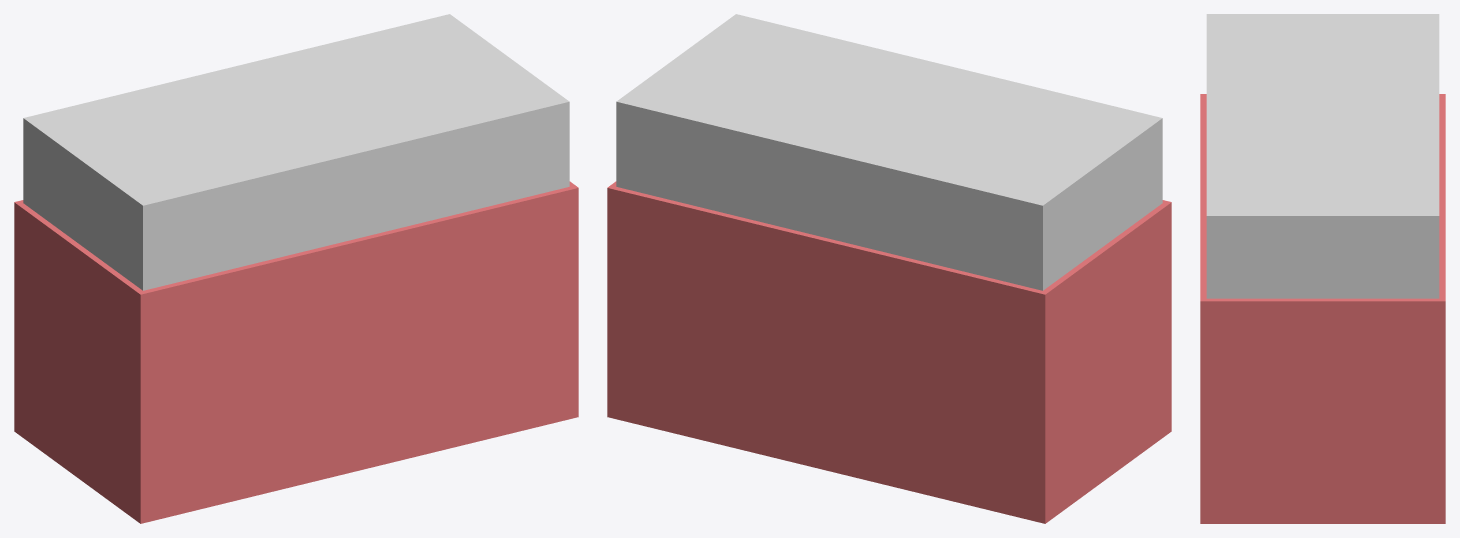
The model's file is display_kaca_panjang.fbx.
The picture shows the model from 3 angles, left to right: view 1: azimuth 30°, elevation 25°; view 2: azimuth 150°, elevation 25°; view 3: azimuth 270°, elevation 25°; orthographic projection. The views are drawn at different scales.
Visible parts, largest first — view 1: display_kaca_panjang; view 2: display_kaca_panjang; view 3: display_kaca_panjang.
Part boxes in pixels (bbox=[...]): display_kaca_panjang: bbox=[14, 14, 578, 523]; display_kaca_panjang: bbox=[607, 14, 1171, 523]; display_kaca_panjang: bbox=[1200, 14, 1445, 523].
Size of the model in its own units: 100 by 68.56 by 50.
2 materials, 1 textured.
